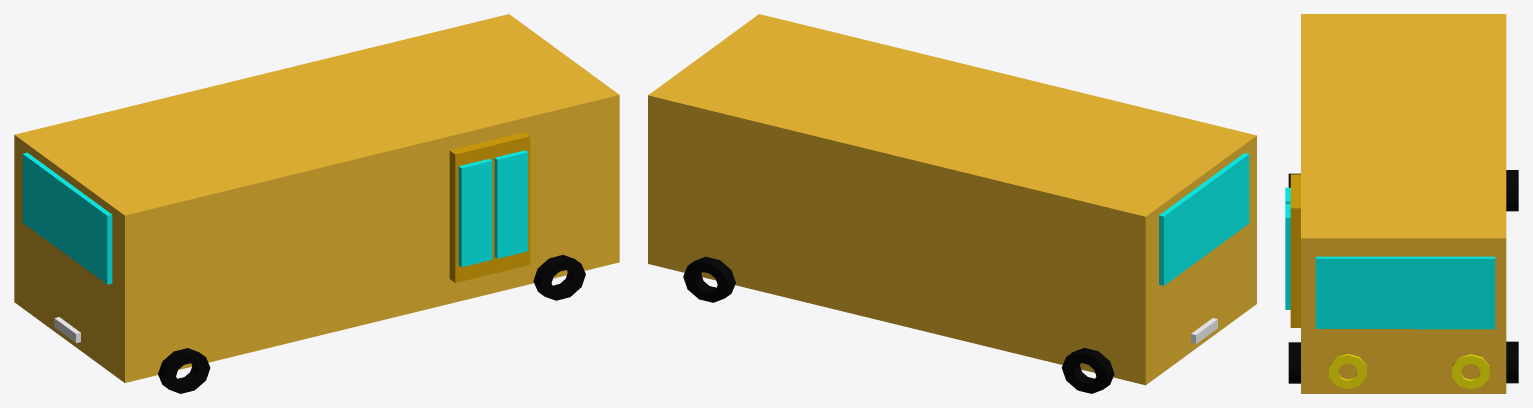
File: autocarro.gltf
The picture shows the model from 3 angles, left to right: view 1: azimuth 30°, elevation 25°; view 2: azimuth 150°, elevation 25°; view 3: azimuth 270°, elevation 25°; orthographic projection. The views are drawn at different scales.
Visible parts, largest first — view 1: Box, Box_7, Box_6, Box_3, Box_4, Tube, Tube_1; view 2: Box, Box_7, Tube_2, Tube_3; view 3: Box, Box_2, Box_6, Box_1, Tube_5, Tube_4, Box_4, Tube_3, Tube_2, Tube.
Part boxes in pixels (<box>): Box: <box>14,14,619,382</box>; Box_7: <box>22,152,112,284</box>; Box_6: <box>449,132,530,282</box>; Box_3: <box>458,159,492,267</box>; Box_4: <box>494,150,527,258</box>; Tube: <box>533,255,585,300</box>; Tube_1: <box>158,348,210,393</box>; Box: <box>648,14,1256,385</box>; Box_7: <box>1159,153,1249,285</box>; Tube_2: <box>1061,348,1114,393</box>; Tube_3: <box>683,256,735,302</box>; Box: <box>1301,14,1506,393</box>; Box_2: <box>1315,256,1494,328</box>; Box_6: <box>1290,174,1300,327</box>; Box_1: <box>1414,256,1495,329</box>; Tube_5: <box>1452,354,1489,389</box>; Tube_4: <box>1329,354,1366,388</box>; Box_4: <box>1285,204,1290,309</box>; Tube_3: <box>1506,341,1518,383</box>; Tube_2: <box>1506,170,1518,211</box>; Tube: <box>1288,342,1300,383</box>.
Bounding box in the file's own units: 299 × 105 × 129.
